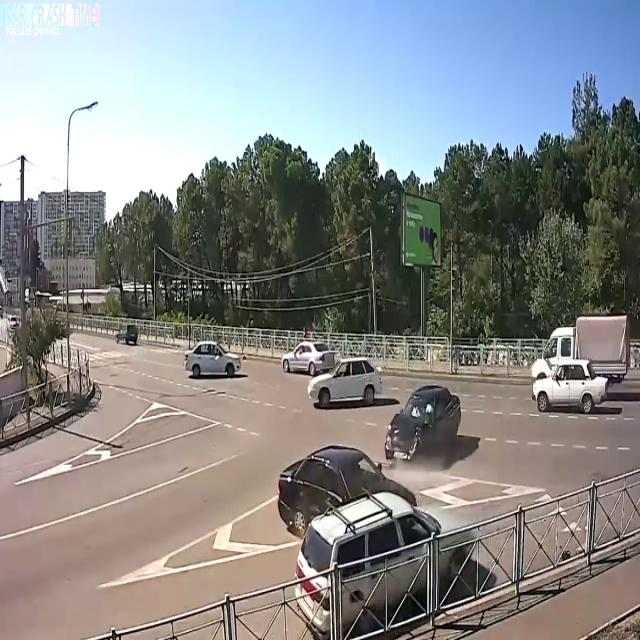Accident: (291, 376, 456, 526)
